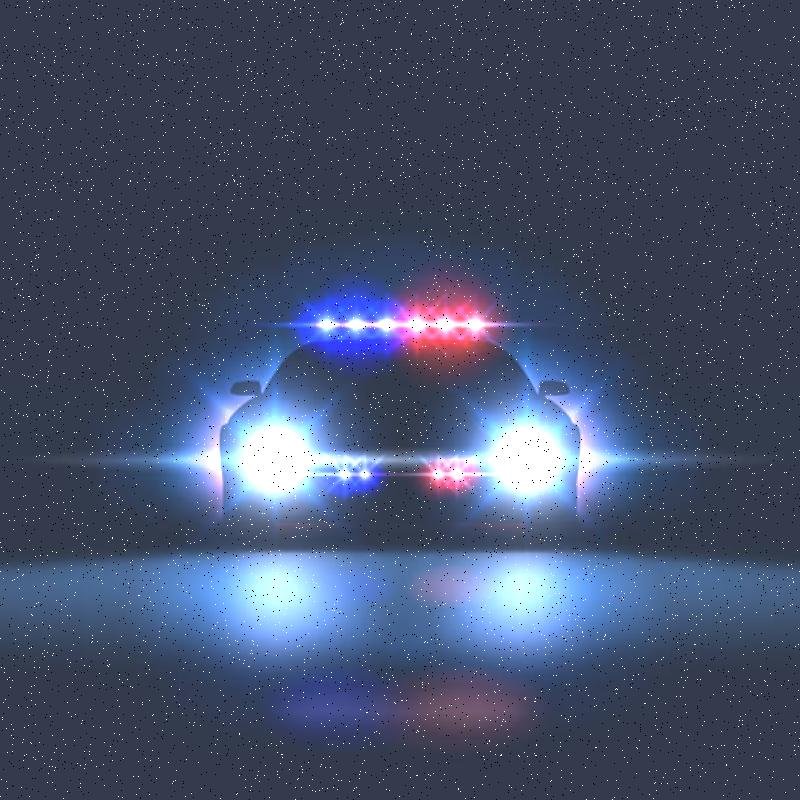AmbulanceSiren: (279, 297, 507, 358)
